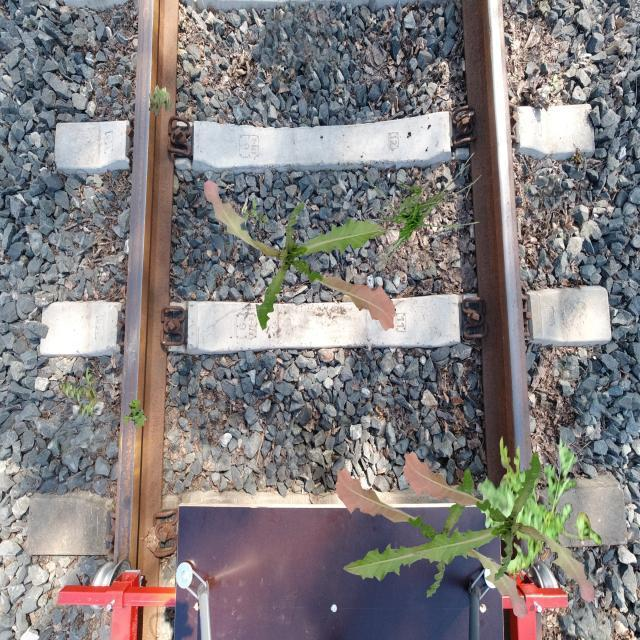Plant: (335, 467, 528, 619), (203, 180, 396, 332), (403, 451, 596, 603), (477, 434, 602, 581), (363, 152, 482, 274), (58, 365, 100, 419), (149, 85, 175, 117), (241, 198, 268, 228), (123, 398, 147, 428)
